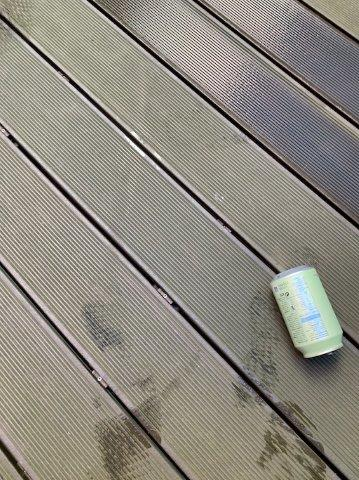kaleng: (272, 266, 343, 357)
